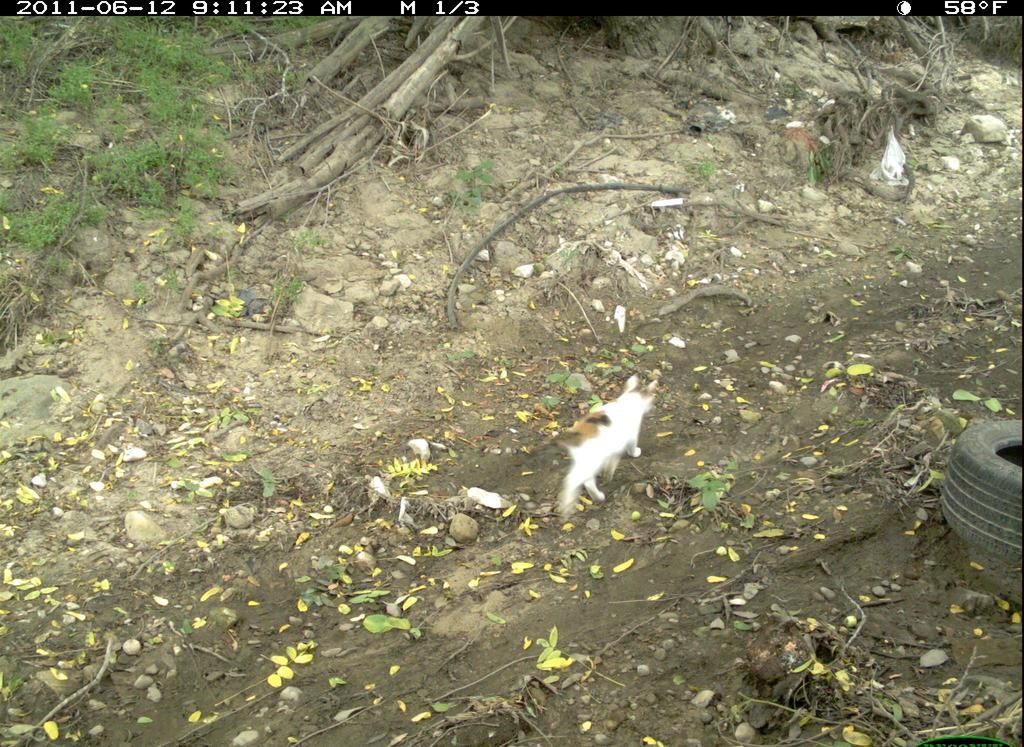cat: (548, 374, 664, 523)
